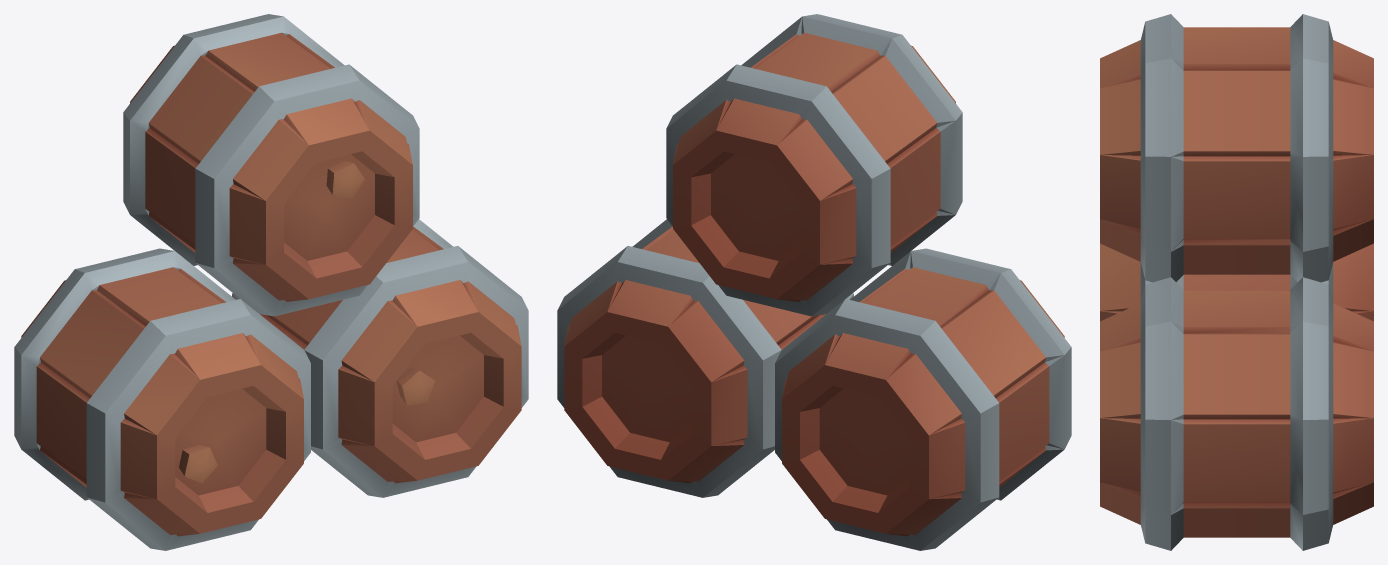
File: barrel_small_stack.glb
3 renders of one model, left to right at view 1: azimuth 30°, elevation 25°; view 2: azimuth 150°, elevation 25°; view 3: azimuth 270°, elevation 25°, orthographic.
Parts seen in each view (by area): view 1: barrel_small_stack; view 2: barrel_small_stack; view 3: barrel_small_stack.
Part boxes in pixels (box(x1,y1,x2,y2)): barrel_small_stack: box(14, 14, 528, 550); barrel_small_stack: box(557, 14, 1071, 550); barrel_small_stack: box(1100, 14, 1373, 550).
Size of the model in its own units: 1.85 by 1.77 by 1.
Materials: 1 (1 with a texture image).
